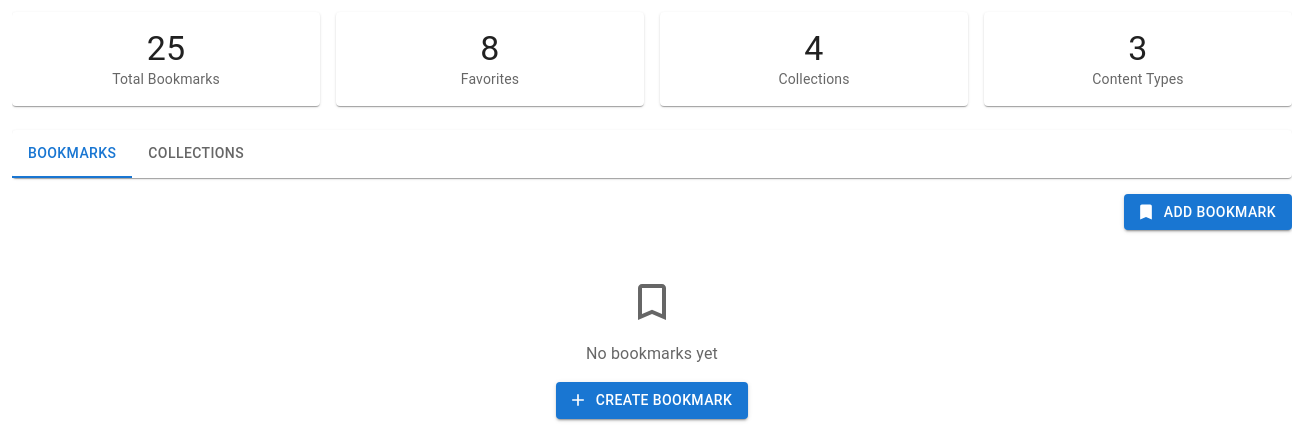
Test: BookmarkManager Component › Collections Display › should display collections in Collections tab
The width and height of the screenshot is (1304, 439).
Click Collections tab
Click the tab "Collections" at {"x": 196, "y": 154}, box [132,130,260,178]
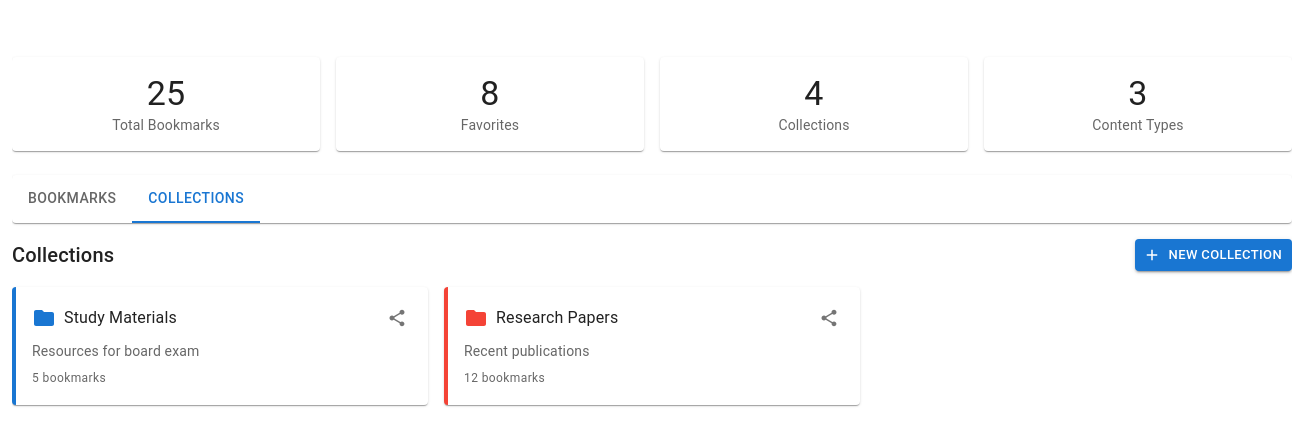
Now the heading "Study Materials" is shown, box [64,304,177,332]
Now the heading "Research Papers" is shown, box [496,304,618,332]
